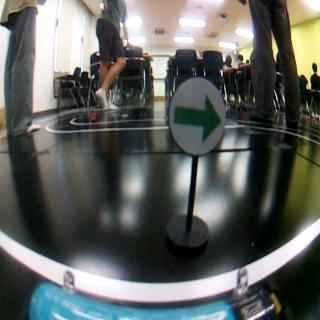right: (170, 78, 226, 153)
